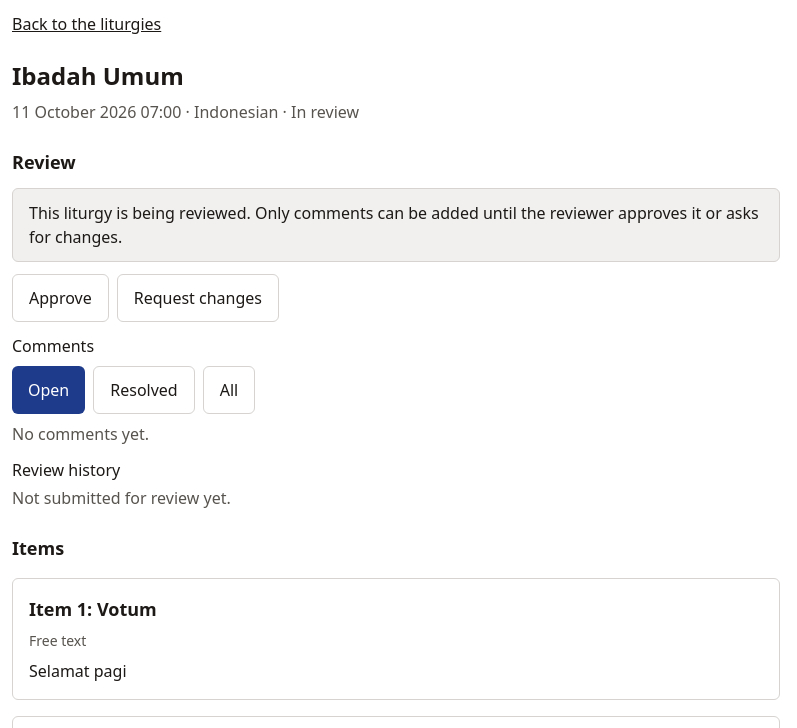
WT-R-002 approve › sends the edit_seq it displayed and the note, then shows the new state
Click the button "Approve": (60, 298) [12,274,109,322]
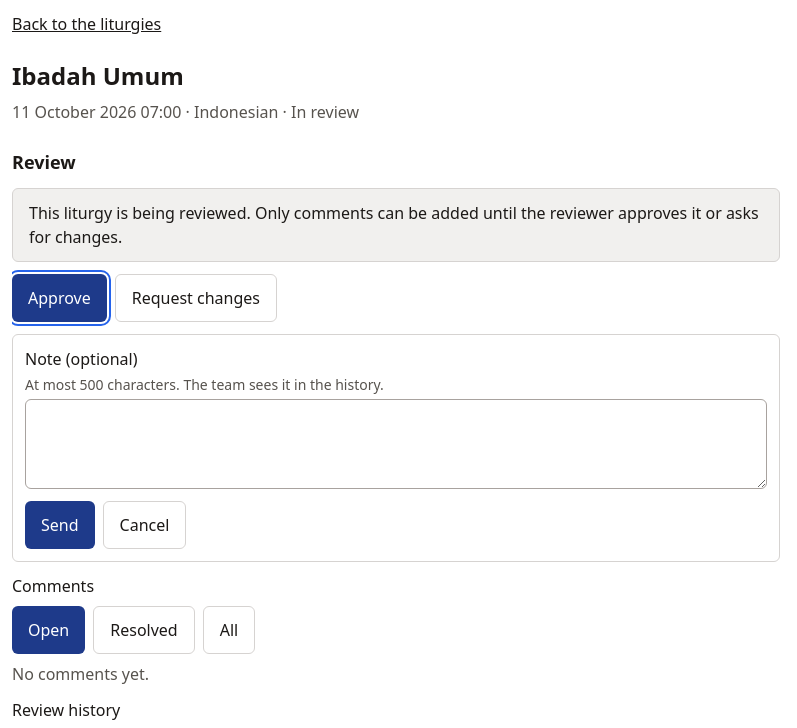
In the text box labelled "Note (optional)": (396, 444) [25,399,767,489], type "Baik"
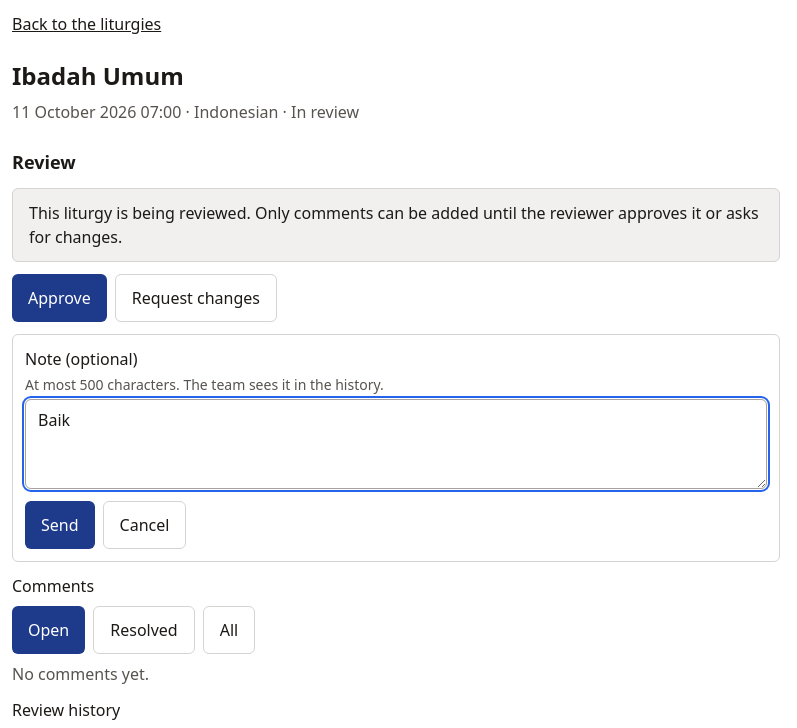
Click the button "Send": (60, 525) [25,501,94,549]
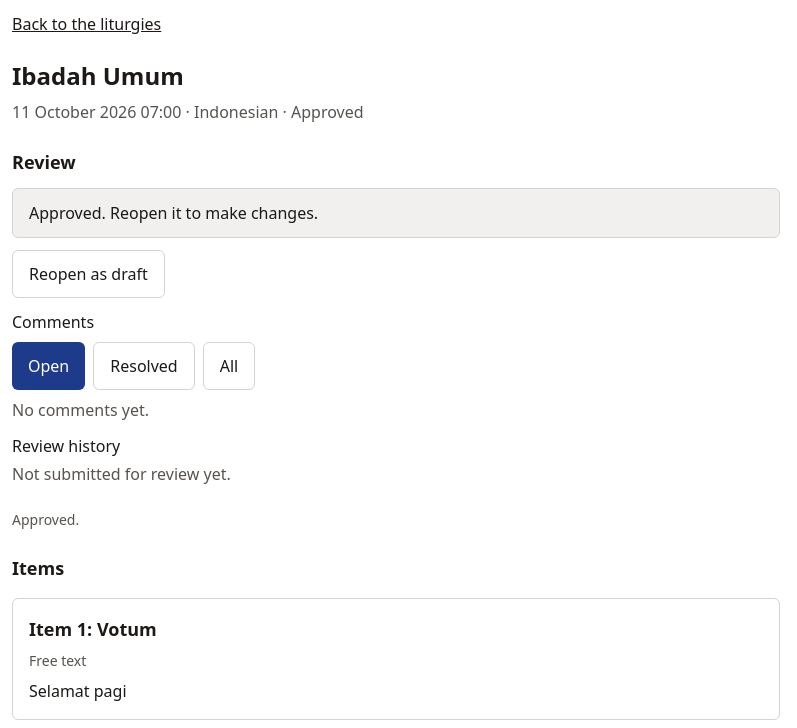
expect the text "Approved. Reopen it to make changes." is shown: met, box [12,188,780,238]
expect the button "Reopen as draft" is shown: met, box [12,250,165,298]
